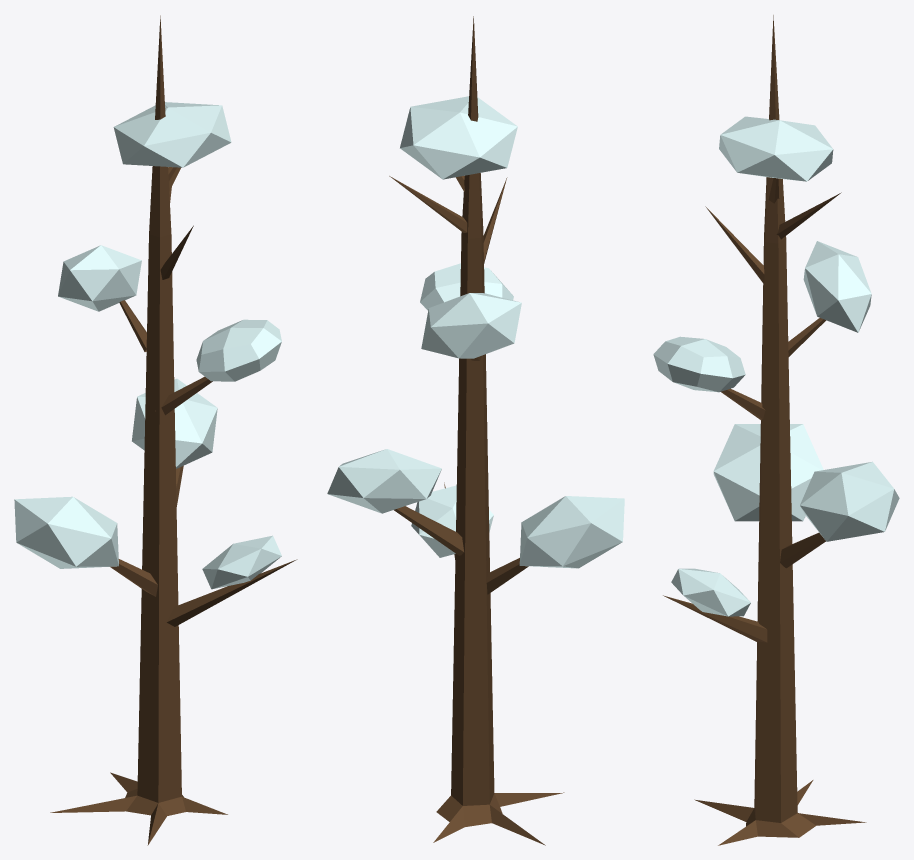
File: tree-dead-snow.glb
3 renders of one model, left to right at view 1: azimuth 30°, elevation 25°; view 2: azimuth 150°, elevation 25°; view 3: azimuth 270°, elevation 25°, orthographic. The views are drawn at different scales.
Visible parts, largest first — view 1: tree-dead-snow; view 2: tree-dead-snow; view 3: tree-dead-snow.
Part boxes in pixels (<box>): tree-dead-snow: <box>14,15,297,845</box>; tree-dead-snow: <box>327,16,624,845</box>; tree-dead-snow: <box>653,15,899,845</box>.
Size of the model in its own units: 2.5 by 7.88 by 2.17.
1 material, 1 textured.
